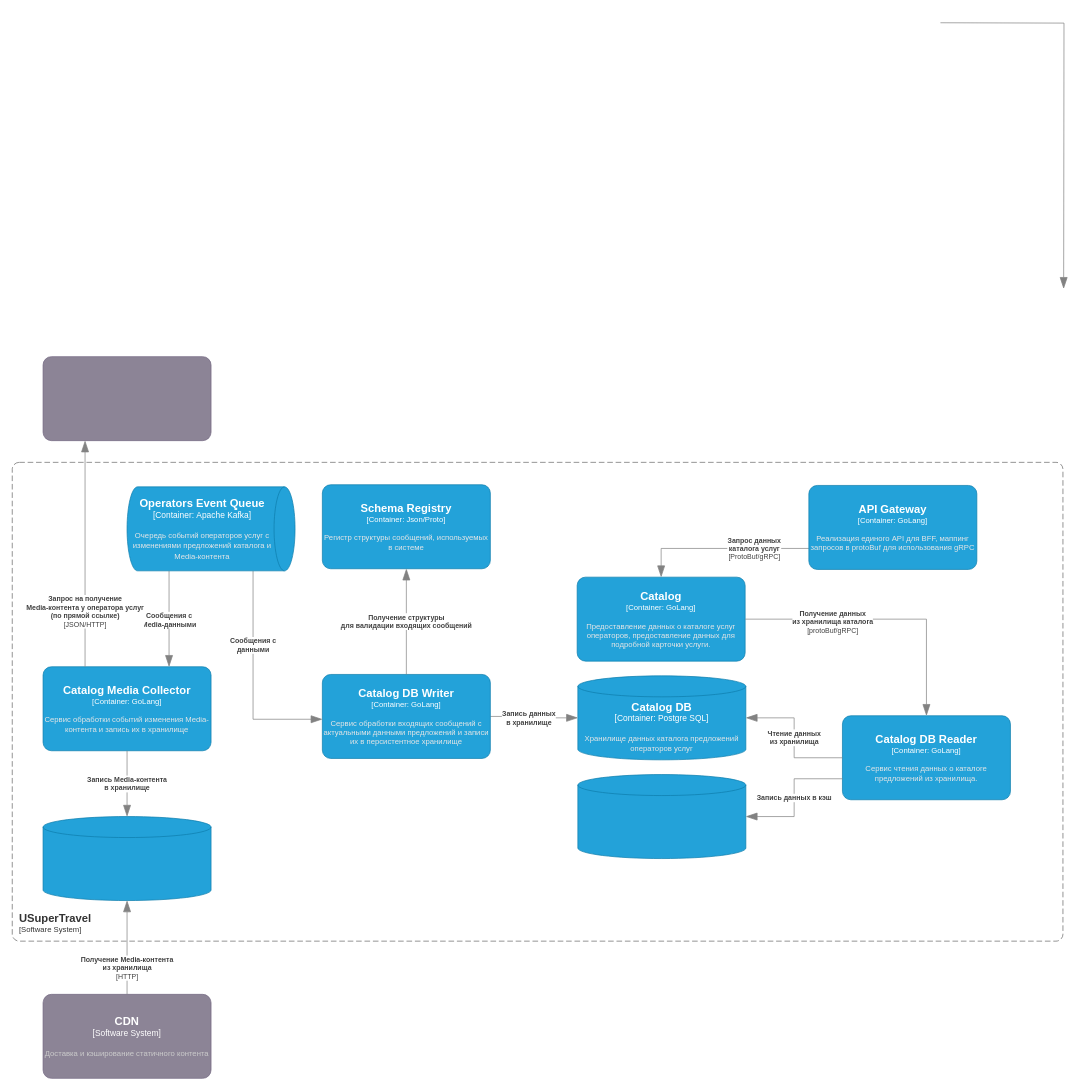
Some shapes in this 1088 by 1091 pixel diagram are drawn without their labels. The centre of each missing label's shape, as x and y in pixels:
"Cache DB [Container: Redis] Кэширование данных о предложениях услуг" goes at (661,816).
"Media DB [Container: S3] Хранилище Media-контента предложений операторов услуг" goes at (126,858).
"Operators [Software System] Description of external software system." goes at (126,398).
